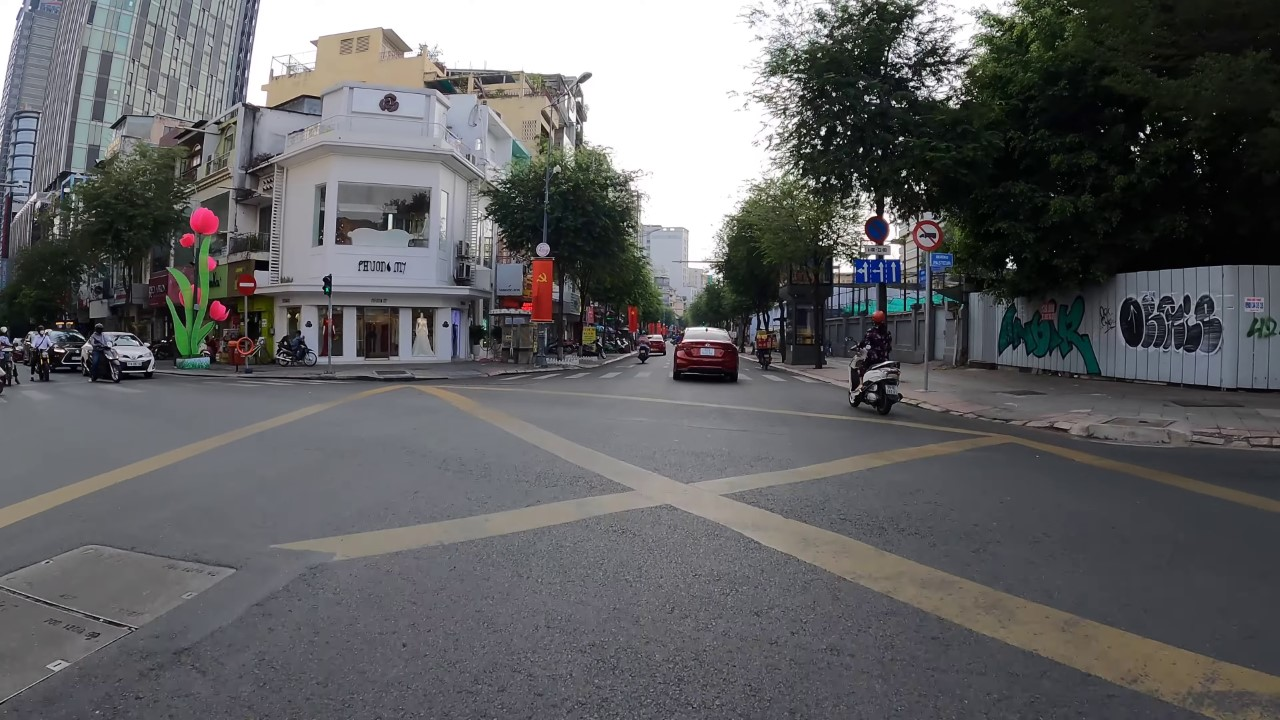cam_do_xe: (863, 213, 891, 246)
cam_nguoc_chieu: (236, 272, 258, 298)
